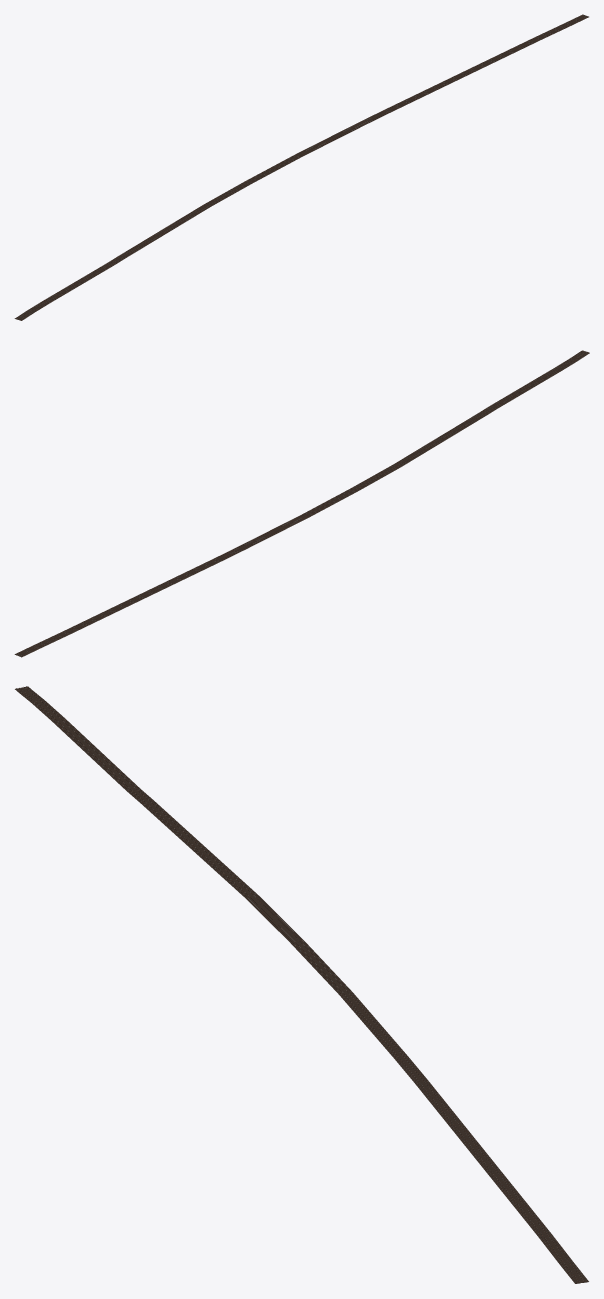
File: kobe_0027.glb
The picture shows the model from 3 angles, top to bottom: view 1: azimuth 30°, elevation 25°; view 2: azimuth 210°, elevation 25°; view 3: azimuth 270°, elevation 25°; orthographic projection. The views are drawn at different scales.
Visible parts, largest first — view 1: ballast_top, oxidised_rail_profiles; view 2: ballast_top, oxidised_rail_profiles, ballast_left; view 3: ballast_top, oxidised_rail_profiles.
Part boxes in pixels (bbox=[...]): ballast_top: bbox=[14, 14, 588, 320]; oxidised_rail_profiles: bbox=[15, 15, 588, 319]; ballast_top: bbox=[14, 350, 589, 656]; oxidised_rail_profiles: bbox=[16, 350, 588, 656]; ballast_left: bbox=[21, 353, 589, 657]; ballast_top: bbox=[15, 686, 588, 1283]; oxidised_rail_profiles: bbox=[16, 686, 587, 1282].
Size of the model in its own units: 704 by 0.819 by 286.
4 materials, 3 textured.
